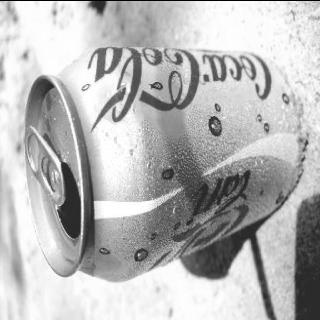alumunium_can: (24, 45, 300, 282)
